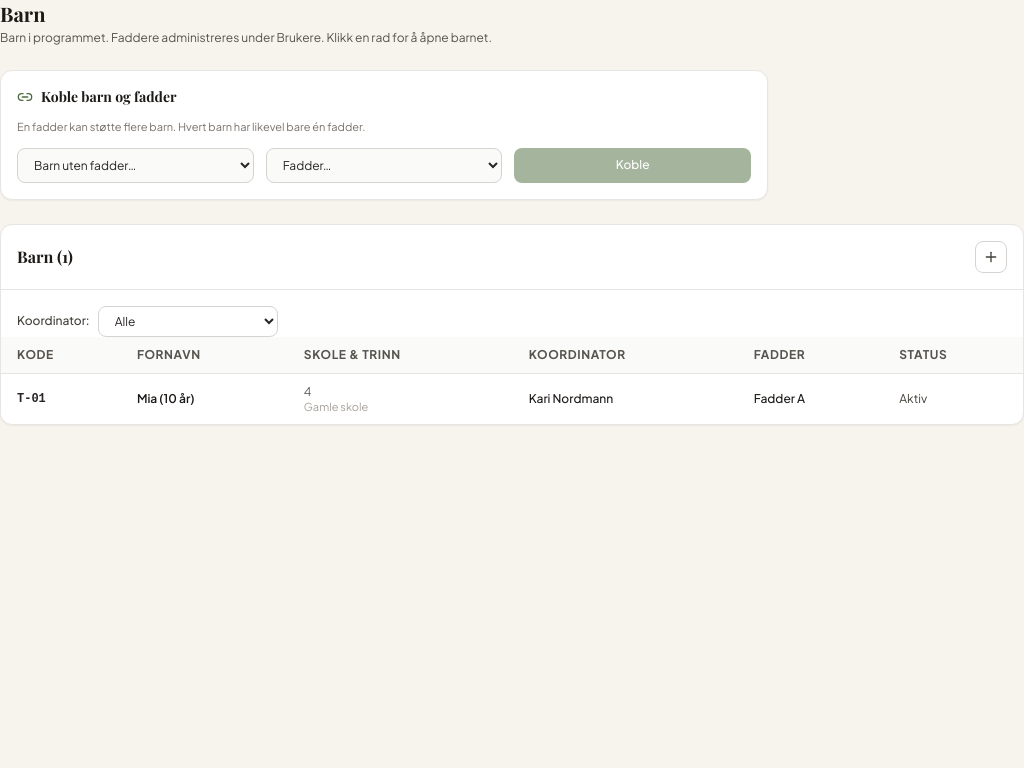
it: Fadder i header-kortet › viser feil fra fadderbytte inline
Click the text "T-01" at (31, 399), box [1,373,121,424]
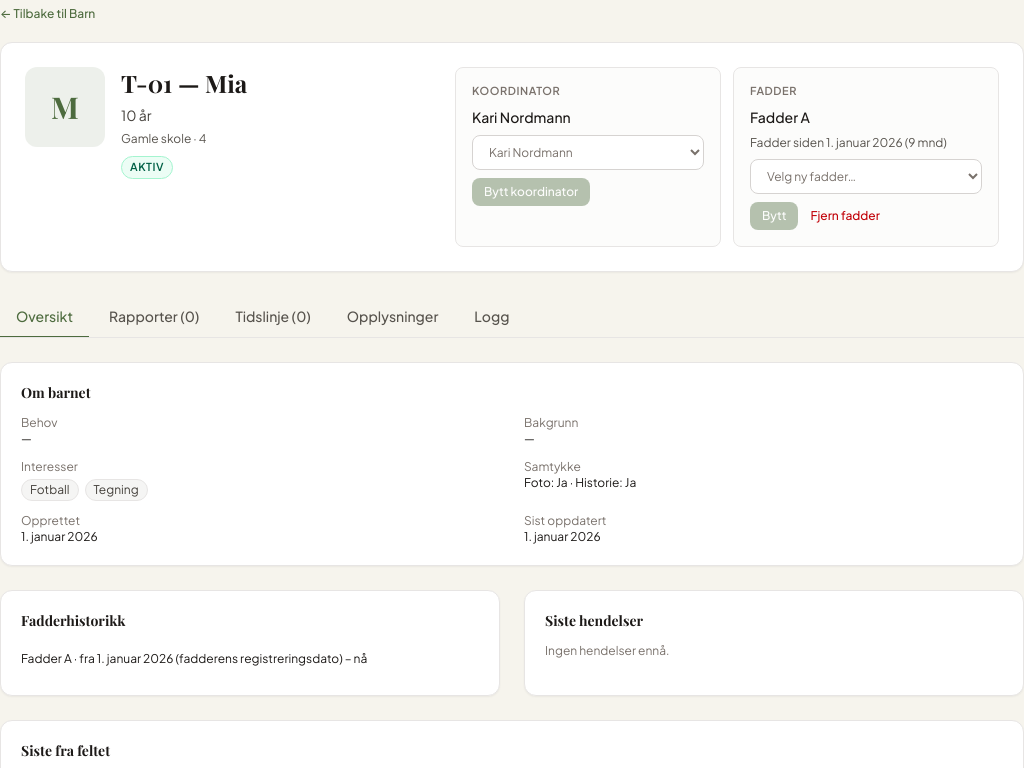
Select "Fadder B" in the dropdown named "Ny fadder" at (866, 176), box [750,159,982,194]
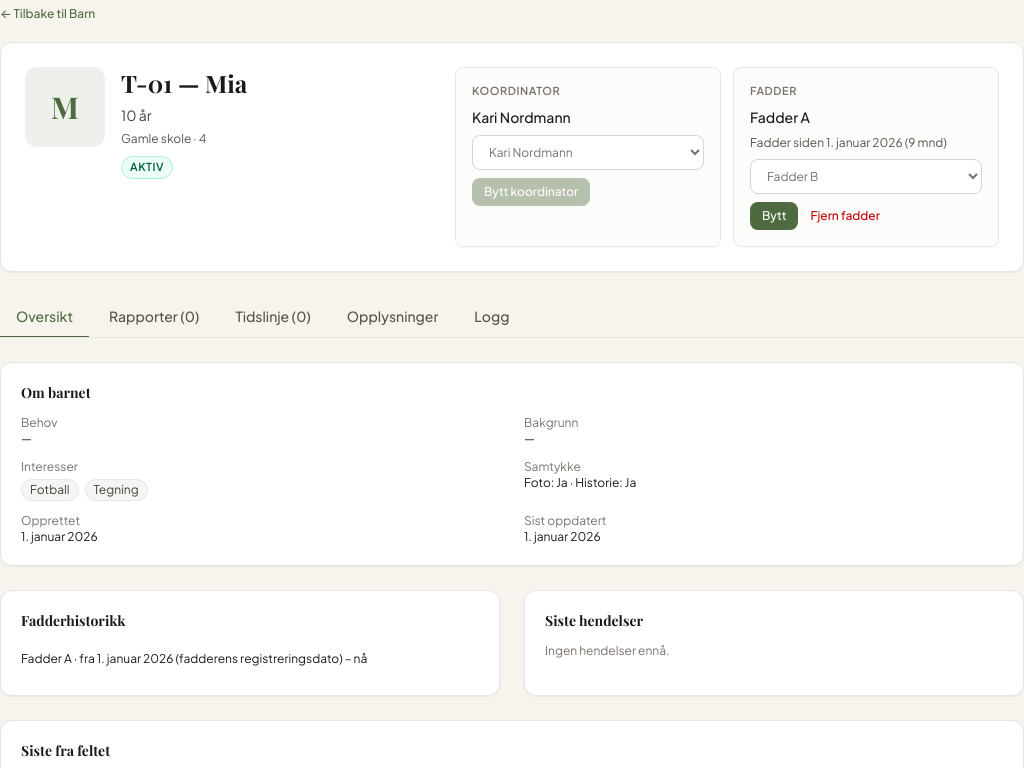
Click the button "Bytt" at (774, 216), box [750,202,798,230]
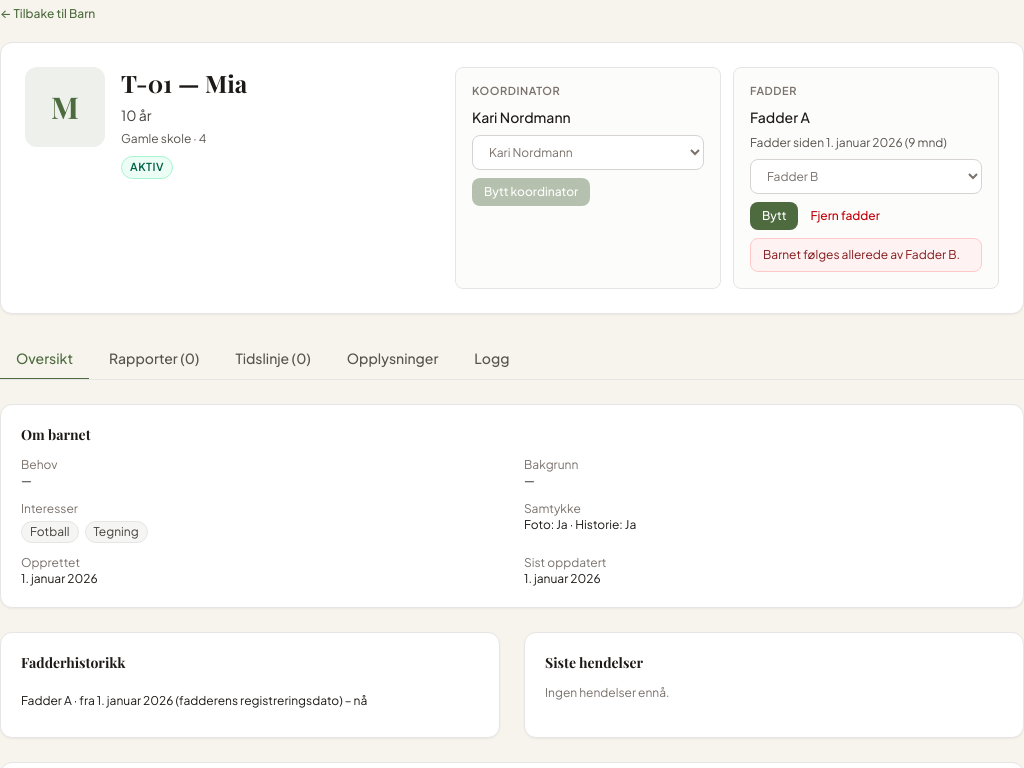
Expected: the message reads "Barnet følges allerede av Fadder B.", [763,247,960,262]
